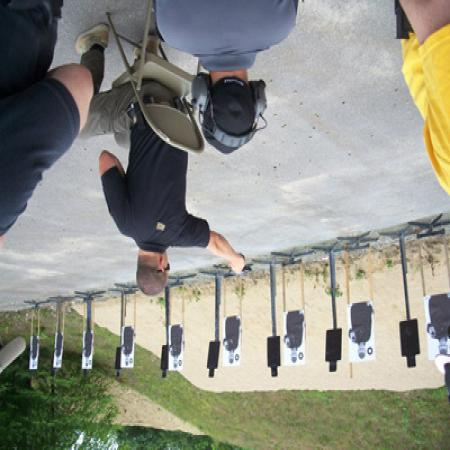Pistol: (222, 258, 250, 282)
